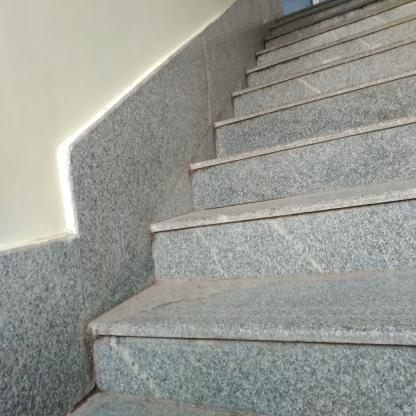stairs: (188, 162, 416, 416)
